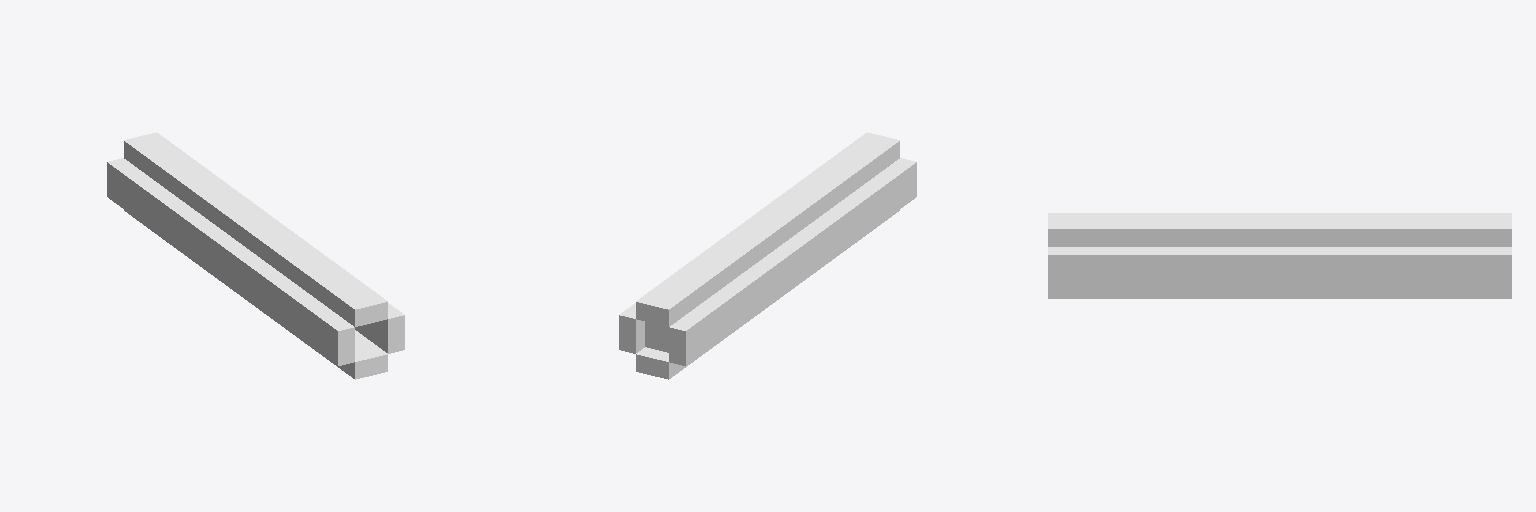
File: stvol.obj
3 views of the same model, side by side, from view 1: azimuth 30°, elevation 25°; view 2: azimuth 150°, elevation 25°; view 3: azimuth 270°, elevation 25° (orthographic).
Visible parts, largest first — view 1: object 1; view 2: object 1; view 3: object 1.
Part boxes in pixels (x1,y1,x2,y2): object 1: (107, 132, 404, 379); object 1: (619, 132, 916, 379); object 1: (1048, 213, 1511, 298).
Bounding box in the file's own units: 0.4 × 0.4 × 2.4.